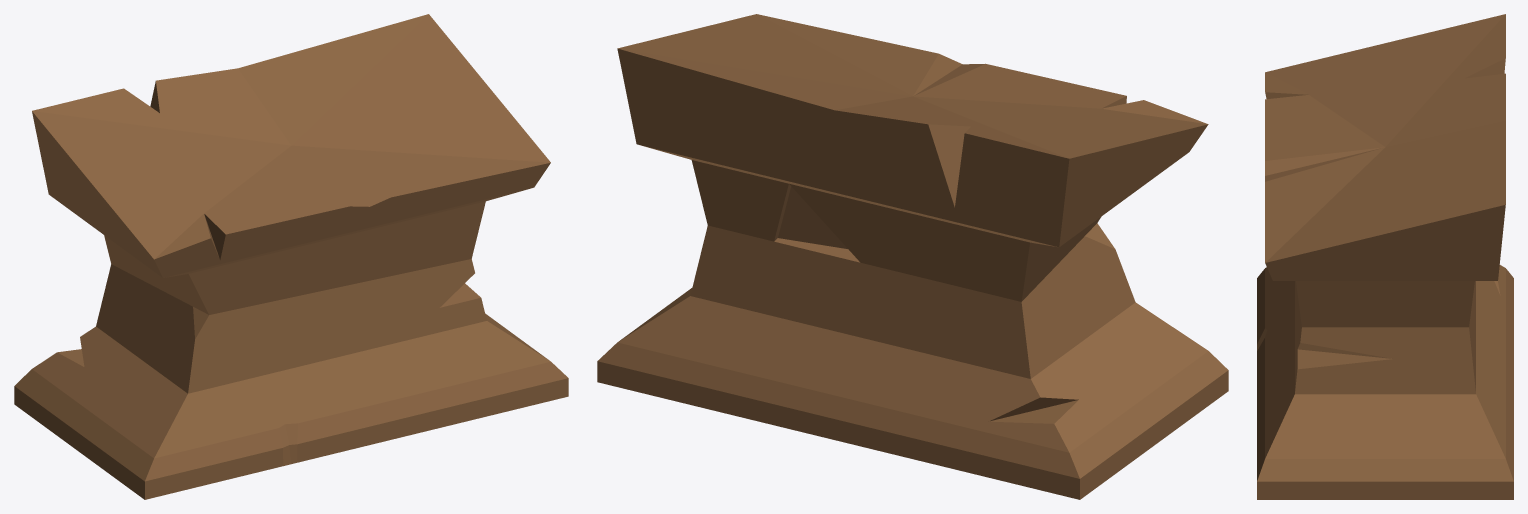
The model's file is Ruin_3_Light_Brown.fbx.
The picture shows the model from 3 angles, left to right: view 1: azimuth 30°, elevation 25°; view 2: azimuth 150°, elevation 25°; view 3: azimuth 270°, elevation 25°; orthographic projection. The views are drawn at different scales.
Parts seen in each view (by area): view 1: Ruin_3_Light_Brown; view 2: Ruin_3_Light_Brown; view 3: Ruin_3_Light_Brown.
Part boxes in pixels (box(x1,y1,x2,y2)): Ruin_3_Light_Brown: box(14, 14, 568, 499); Ruin_3_Light_Brown: box(597, 14, 1228, 499); Ruin_3_Light_Brown: box(1257, 14, 1513, 499).
Size of the model in its own units: 160 by 106 by 85.4.
